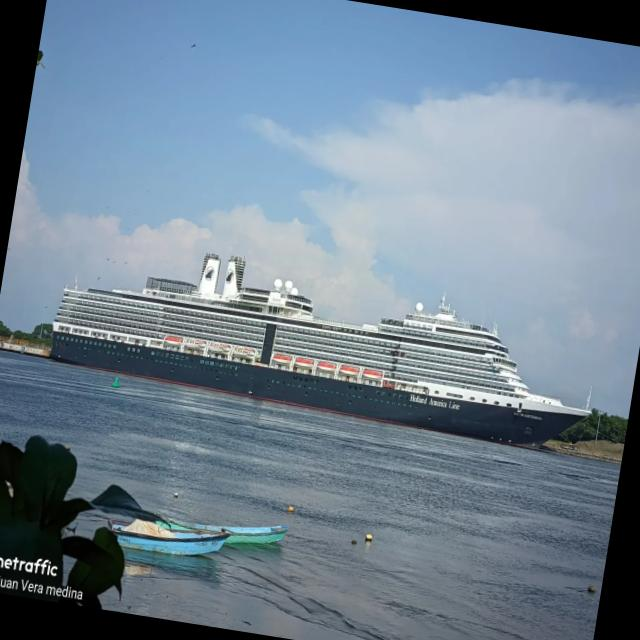Cruise: (50, 256, 589, 447)
